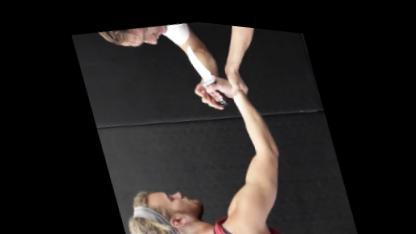knife: (178, 32, 228, 108)
